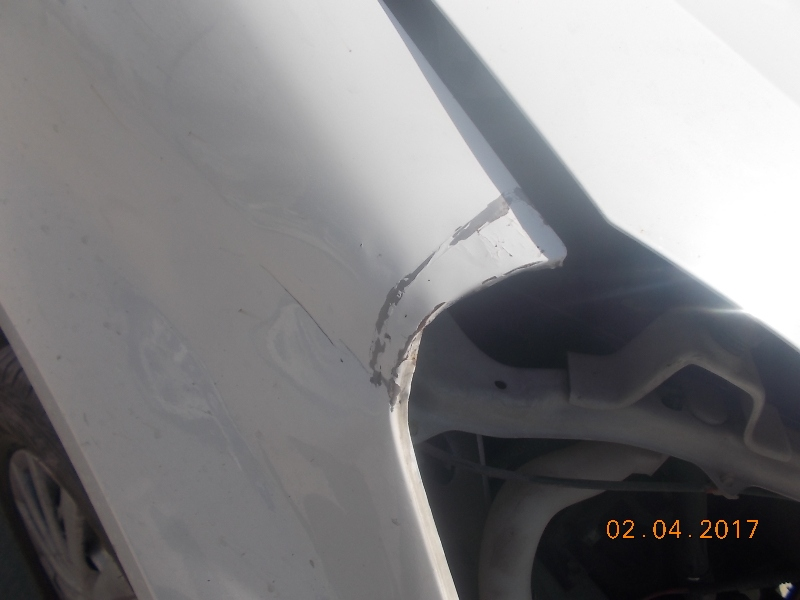Scratch_or_spot: (438, 186, 515, 246), (362, 257, 419, 323), (353, 333, 403, 391)
